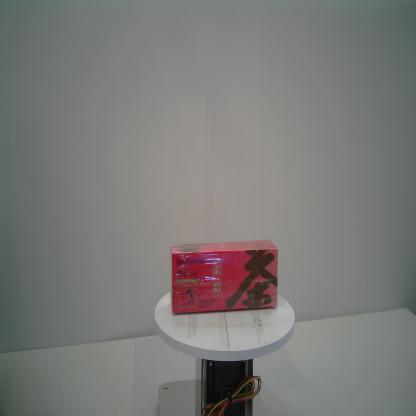Instant Drink: (170, 240, 278, 314)
